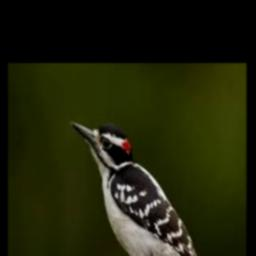Woodpecker: (71, 120, 213, 256)
